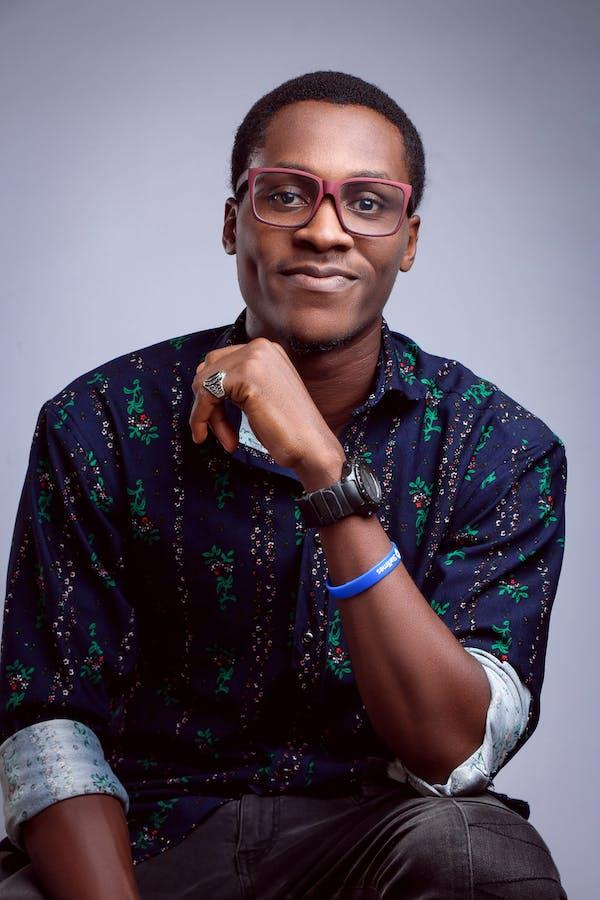eyeglasses: (230, 155, 428, 238)
